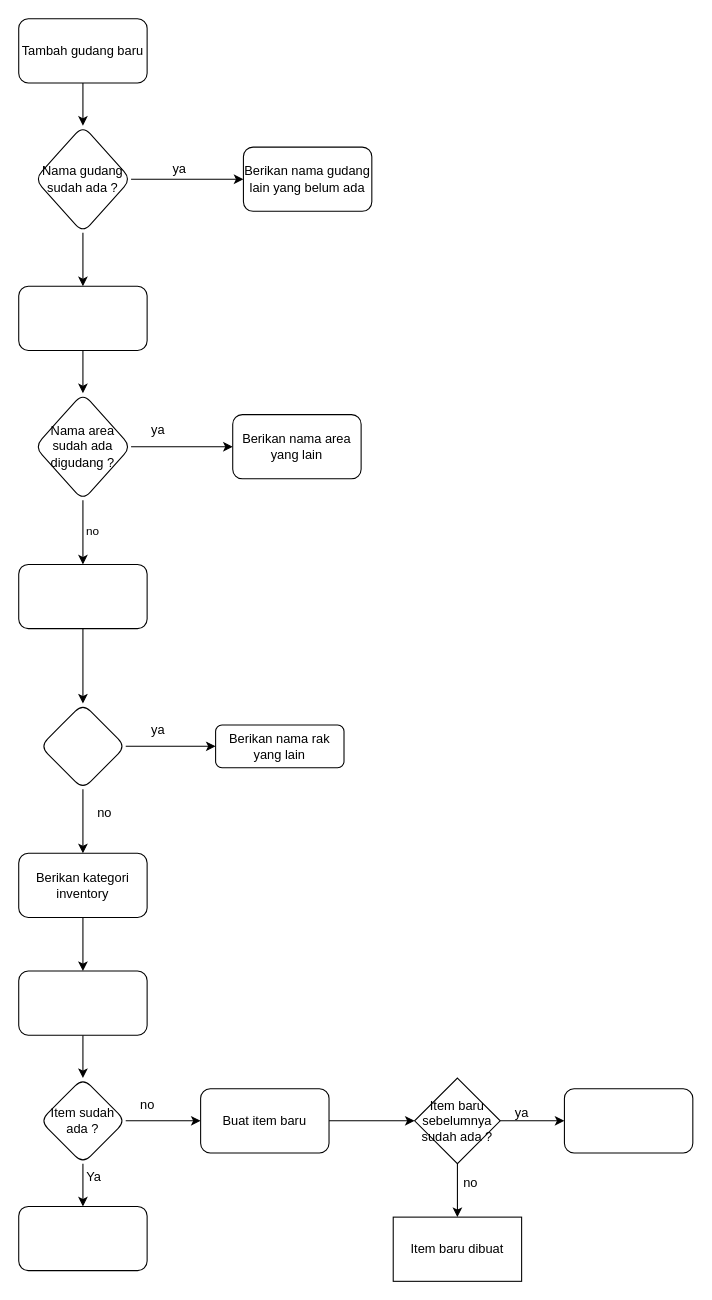
This 712x1300 diagram has some shape labels left out. The centre of each missing label's shape, as x and y in pixels:
Nama rak sudah ada diarea ?: the point at 82,745
Pilih item: the point at 82,1238
Tambah area: the point at 82,317
Tambah rak: the point at 82,596
tambahkan item kerak: the point at 82,1002
Tolak pembuatan iitem baru: the point at 628,1120
